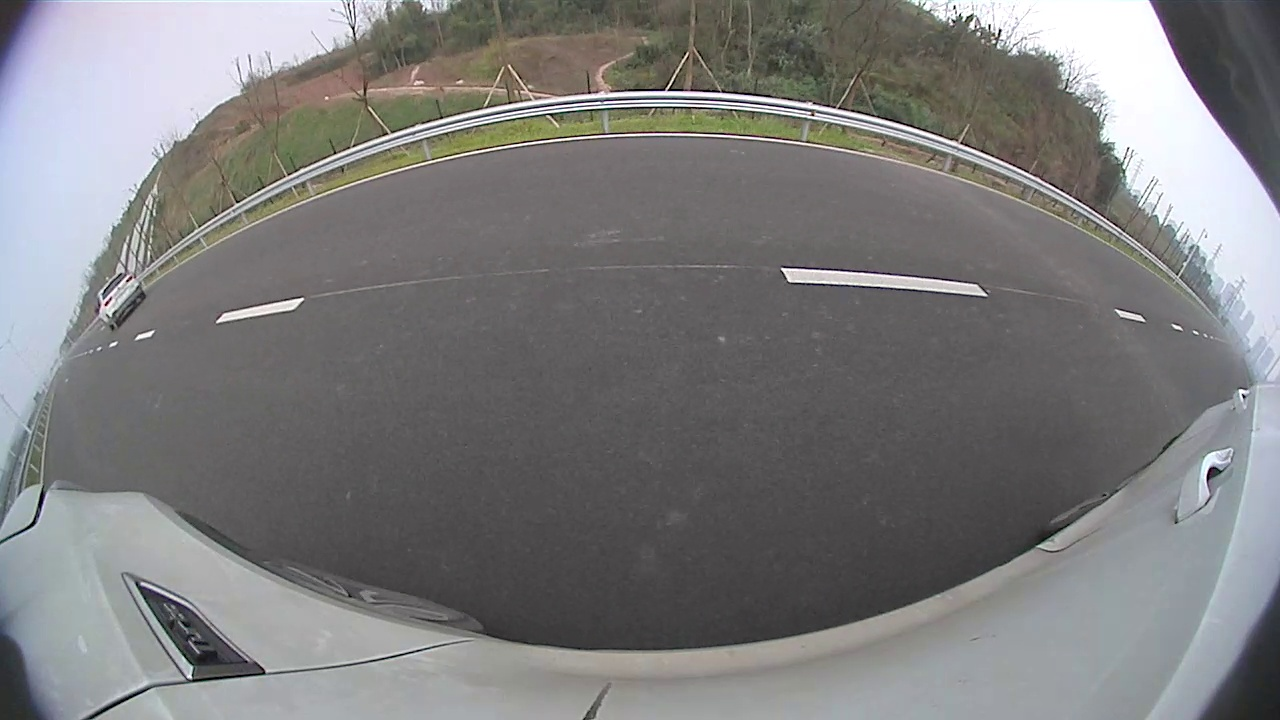car: (725, 148, 812, 202)
front: (726, 175, 736, 194)
rear: (748, 177, 759, 199)
